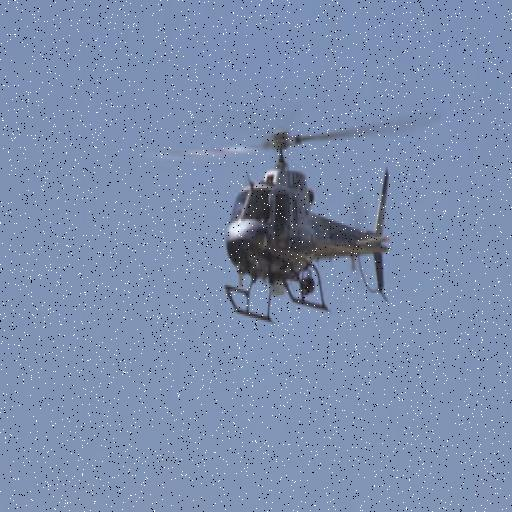helicopter: (163, 119, 441, 325)
